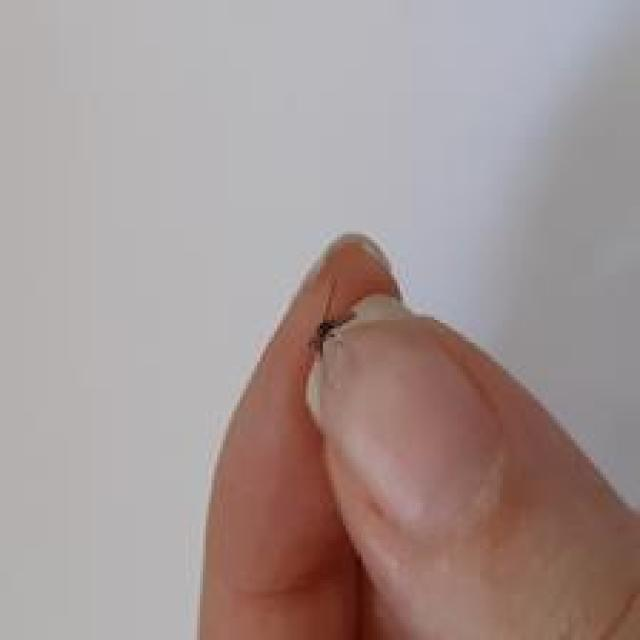Aedes albopictus: (306, 274, 351, 360)
